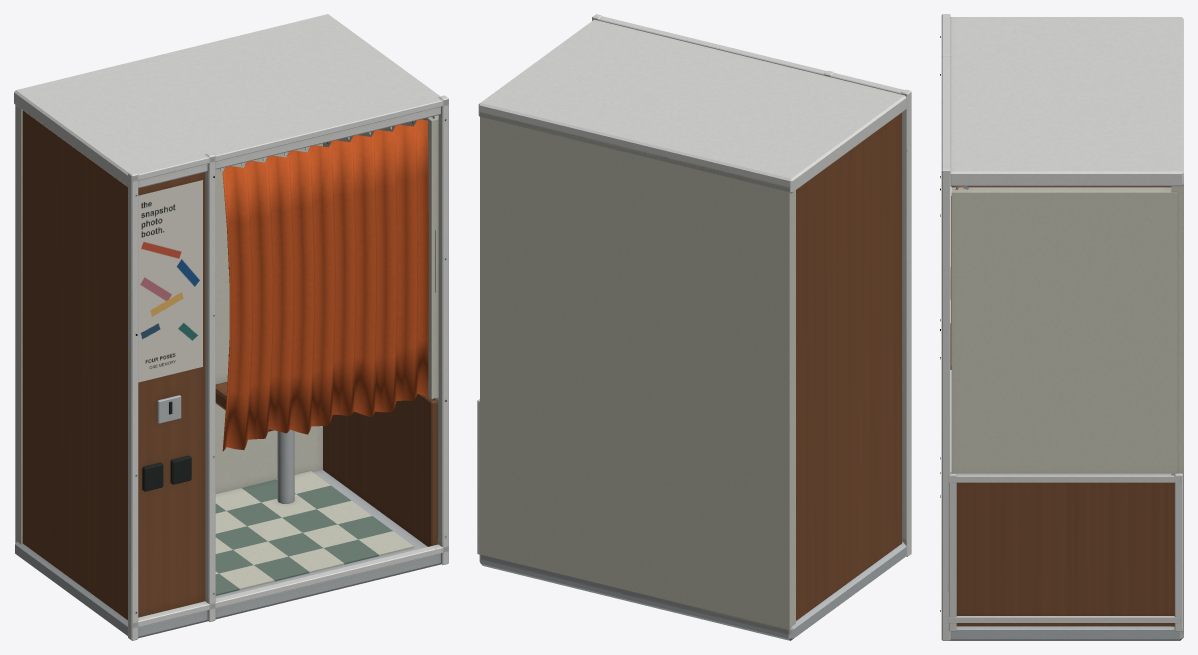
File: mall_photo_booth.glb
3 views of the same model, side by side, from view 1: azimuth 30°, elevation 25°; view 2: azimuth 150°, elevation 25°; view 3: azimuth 270°, elevation 25° (orthographic).
Parts seen in each view (by area): view 1: mall_photo_booth_Body, Printed booth sign; view 2: mall_photo_booth_Body; view 3: mall_photo_booth_Body.
Part boxes in pixels (x1,y1,x2,y2): mall_photo_booth_Body: [14, 14, 448, 640]; Printed booth sign: [138, 180, 202, 382]; mall_photo_booth_Body: [477, 14, 911, 640]; mall_photo_booth_Body: [940, 14, 1183, 640].
Size of the model in its own units: 1.46 by 2.05 by 0.959.
Materials: 2 (2 with a texture image).
